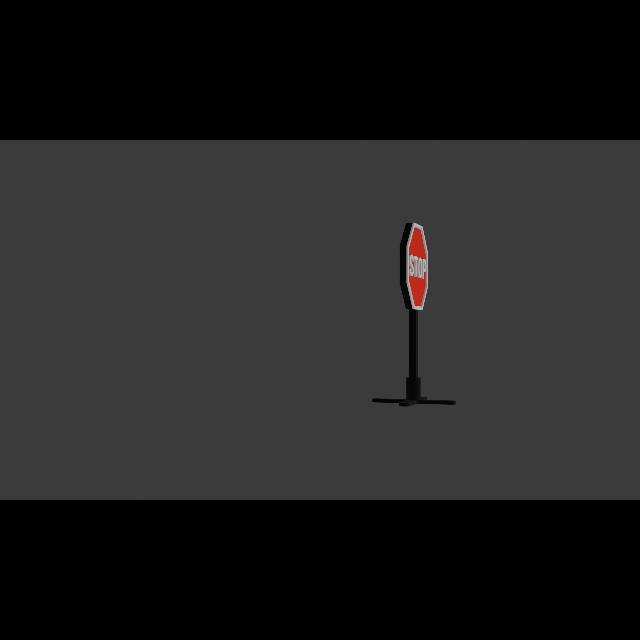sign_stop: (400, 223, 430, 312)
